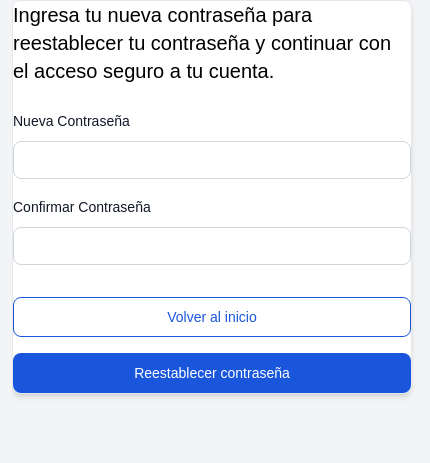
Scenario: ResetPasswordCard › Form Validation › Password fields are required
Click the button "Reestablecer contraseña".
click(212, 373)  # box [13,353,411,393]
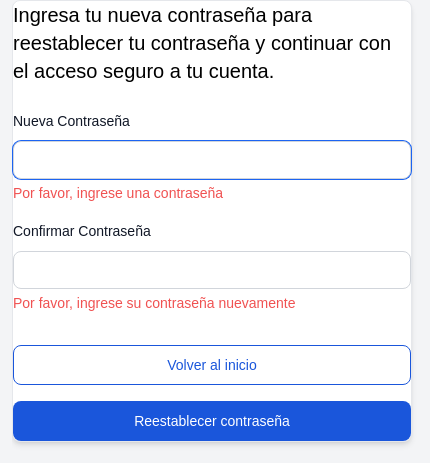
Check: the text "Por favor, ingrese una contraseña" is shown, box [13,185,223,201]
Check: the text "Por favor, ingrese su contraseña nuevamente" is shown, box [13,295,296,311]
